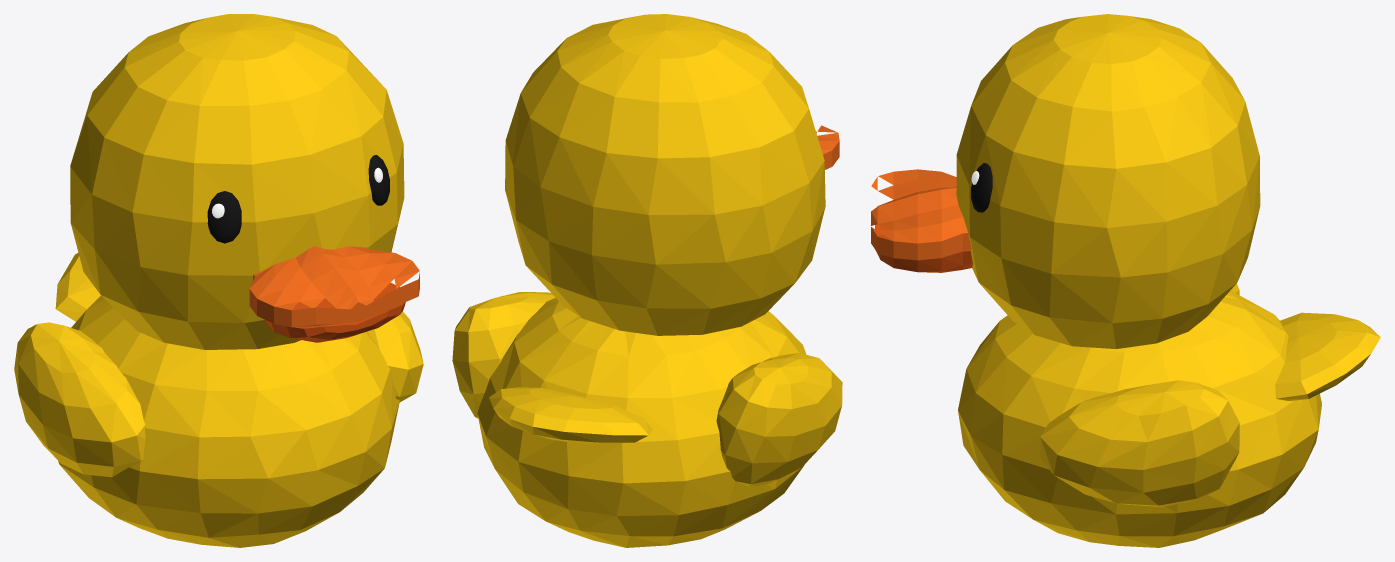
The model's file is duck.glb.
3 views of the same model, side by side, from view 1: azimuth 30°, elevation 25°; view 2: azimuth 150°, elevation 25°; view 3: azimuth 270°, elevation 25° (orthographic). The views are drawn at different scales.
Visible parts, largest first — view 1: head, body, wing_R, beak_upper, wing_L, beak_lower, tail, eye_R, eye_L; view 2: head, body, wing_R, tail, wing_L, beak_upper; view 3: head, body, wing_L, beak_upper, tail, beak_lower, eye_L.
Part boxes in pixels (x1=…): head: x1=70, y1=14, x2=404, y2=349; body: x1=58, y1=295, x2=399, y2=547; wing_R: x1=14, y1=322, x2=145, y2=477; beak_upper: x1=249, y1=246, x2=419, y2=327; wing_L: x1=367, y1=311, x2=423, y2=402; beak_lower: x1=265, y1=282, x2=405, y2=342; tail: x1=55, y1=252, x2=100, y2=321; eye_R: x1=207, y1=191, x2=241, y2=243; eye_L: x1=368, y1=155, x2=389, y2=205; head: x1=505, y1=14, x2=825, y2=335; body: x1=477, y1=298, x2=806, y2=547; wing_R: x1=716, y1=353, x2=842, y2=486; tail: x1=489, y1=387, x2=652, y2=443; wing_L: x1=452, y1=292, x2=555, y2=418; beak_upper: x1=816, y1=125, x2=839, y2=169; head: x1=956, y1=14, x2=1260, y2=348; body: x1=958, y1=290, x2=1321, y2=547; wing_L: x1=1040, y1=380, x2=1239, y2=506; beak_upper: x1=871, y1=169, x2=971, y2=260; tail: x1=1275, y1=312, x2=1380, y2=400; beak_lower: x1=875, y1=224, x2=972, y2=272; eye_L: x1=971, y1=163, x2=992, y2=212.
Bounding box in the file's own units: 0.077 × 0.1 × 0.0958.
